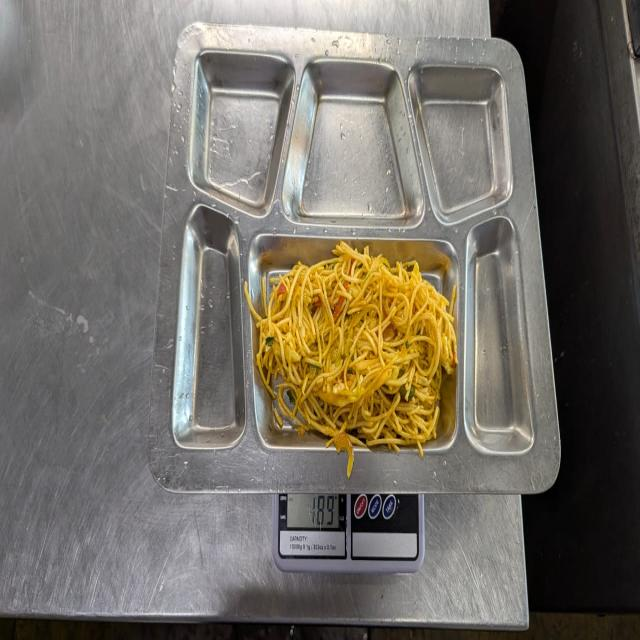Noodles: (258, 263, 458, 446)
